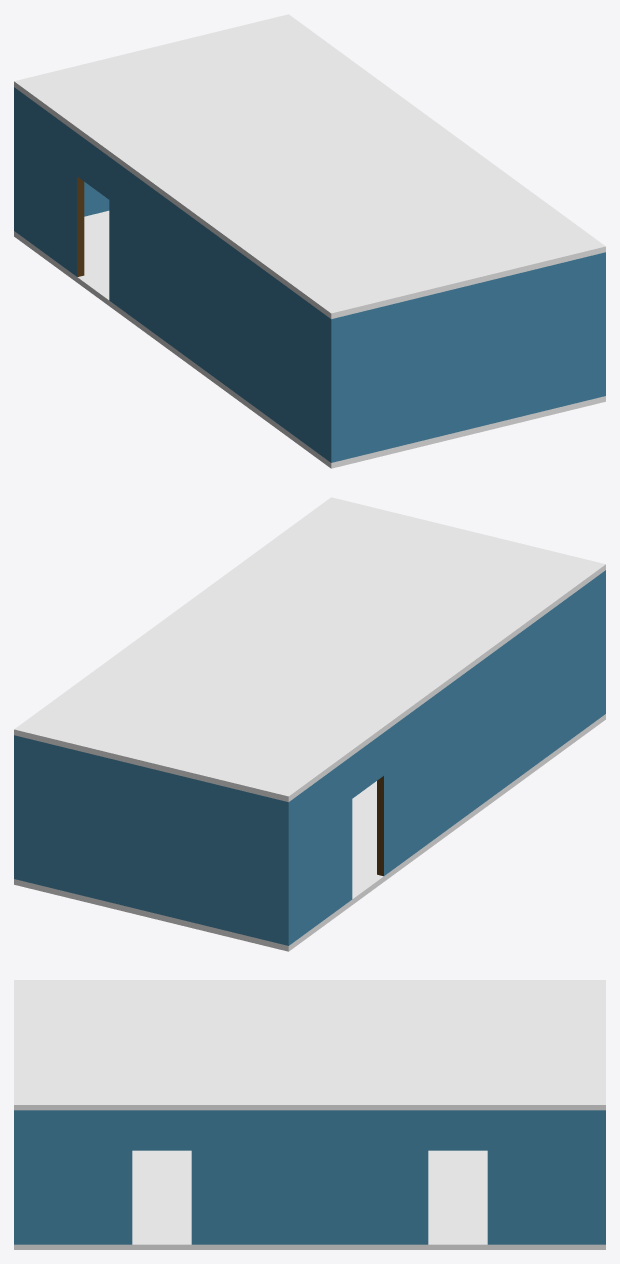
File: Room_2.glb
3 views of the same model, one above another, from view 1: azimuth 30°, elevation 25°; view 2: azimuth 150°, elevation 25°; view 3: azimuth 270°, elevation 25° (orthographic). The views are drawn at different scales.
Visible parts, largest first — view 1: Room_2_Roof, Room_2_Walls, Room_2_Floor; view 2: Room_2_Roof, Room_2_Walls, Room_2_Floor; view 3: Room_2_Roof, Room_2_Walls, Room_2_Floor.
Boxes of the visible parts, box(x1,y1,x2,y2) form: Room_2_Roof: box(14, 14, 605, 319); Room_2_Walls: box(14, 87, 605, 462); Room_2_Floor: box(14, 210, 605, 468); Room_2_Roof: box(14, 497, 605, 802); Room_2_Walls: box(14, 570, 605, 945); Room_2_Floor: box(14, 714, 605, 951); Room_2_Roof: box(14, 980, 605, 1110); Room_2_Walls: box(14, 1110, 605, 1244); Room_2_Floor: box(14, 1150, 605, 1249).
Size of what is drawn, in the model's own units: 5 by 2.7 by 10.
Materials: 4 (1 with a texture image).
